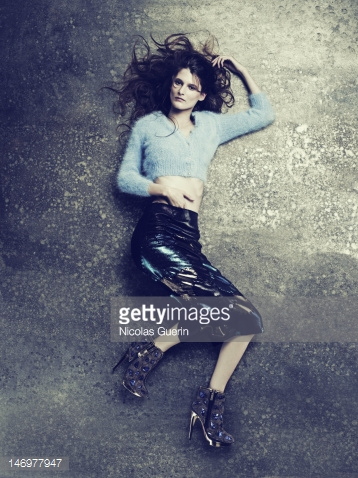deitado: (118, 34, 267, 292)
